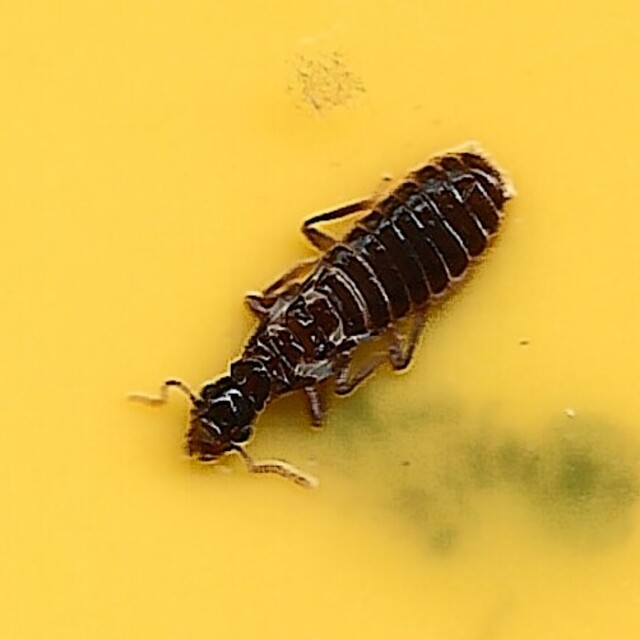Isoptera: (127, 144, 513, 496)
